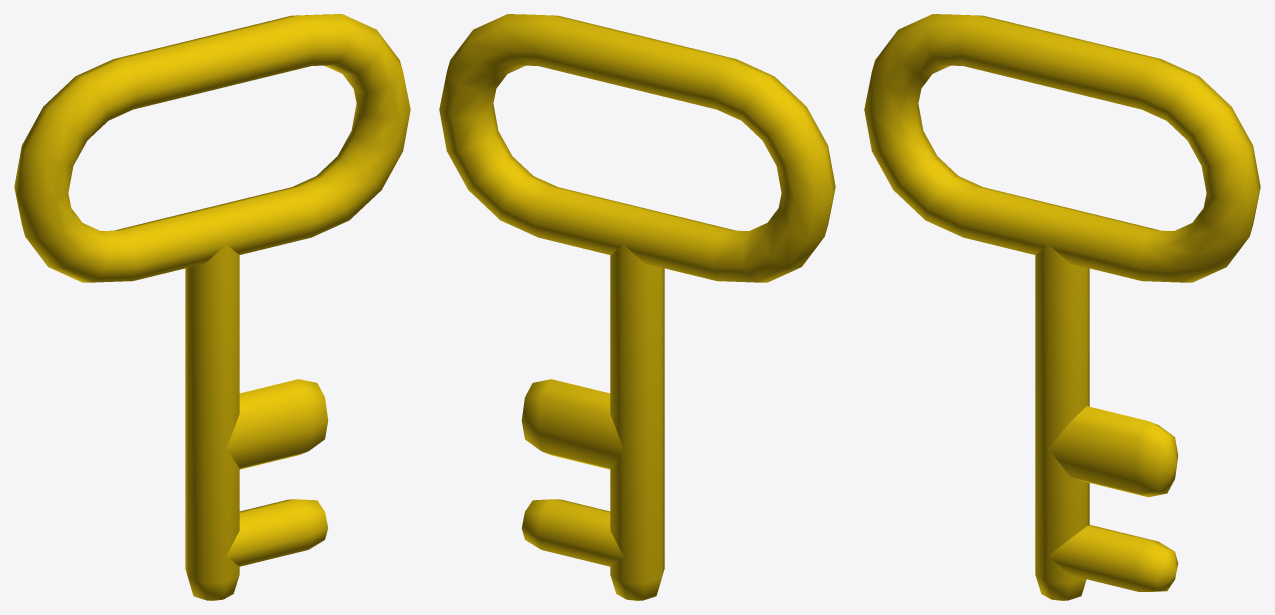
The model's file is Key.fbx.
3 views of the same model, side by side, from view 1: azimuth 30°, elevation 25°; view 2: azimuth 150°, elevation 25°; view 3: azimuth 330°, elevation 25° (orthographic).
Parts seen in each view (by area): view 1: Key; view 2: Key; view 3: Key.
Part boxes in pixels (x1,y1,x2,y2): Key: (14, 14, 410, 600); Key: (439, 14, 835, 600); Key: (864, 14, 1260, 600).
Bounding box in the file's own units: 80.5 × 111 × 10.
